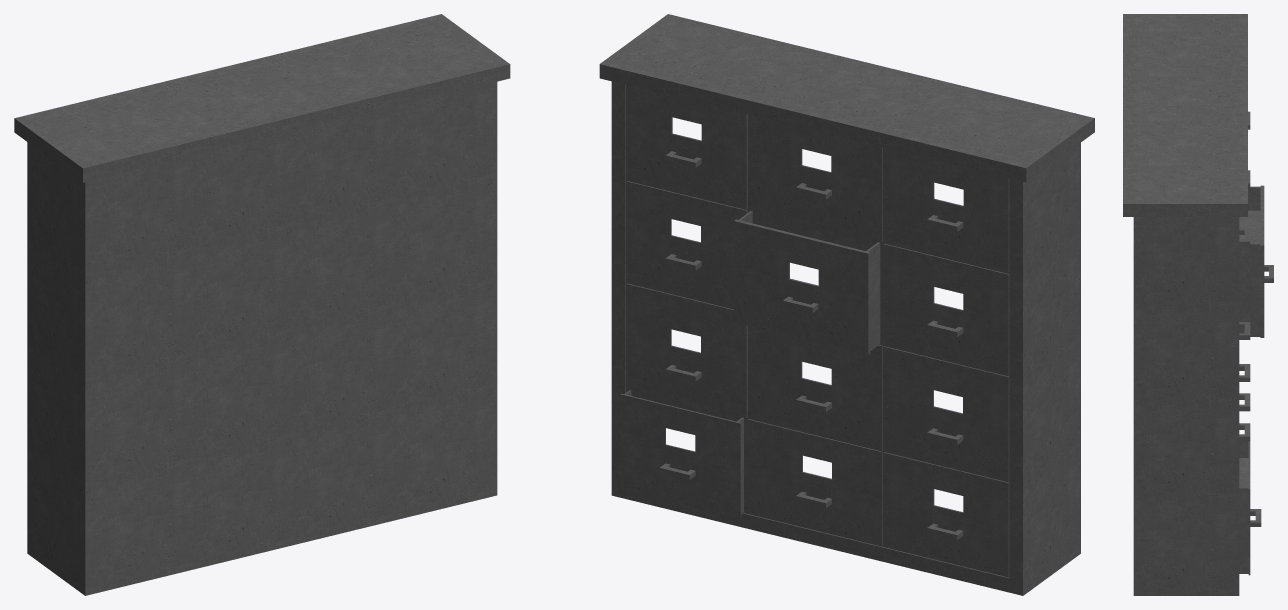
File: gabinete.glb
3 renders of one model, left to right at view 1: azimuth 30°, elevation 25°; view 2: azimuth 150°, elevation 25°; view 3: azimuth 270°, elevation 25°, orthographic. The views are drawn at different scales.
Visible parts, largest first — view 1: Material2; view 2: Material2; view 3: Material2.
Part boxes in pixels (x1,y1,x2,y2): Material2: (14, 14, 510, 595); Material2: (599, 14, 1094, 595); Material2: (1123, 14, 1273, 595).
Bounding box in the file's own units: 16.99 × 15.21 × 5.26.
Materials: 3 (1 with a texture image).
